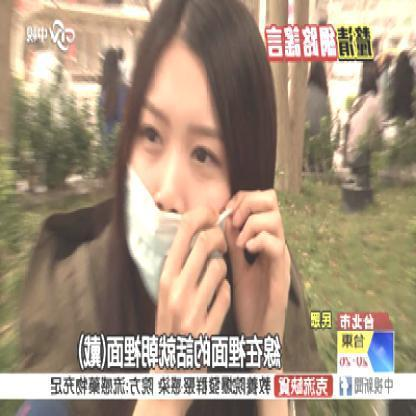mask_weared_incorrect: (123, 85, 231, 311)
